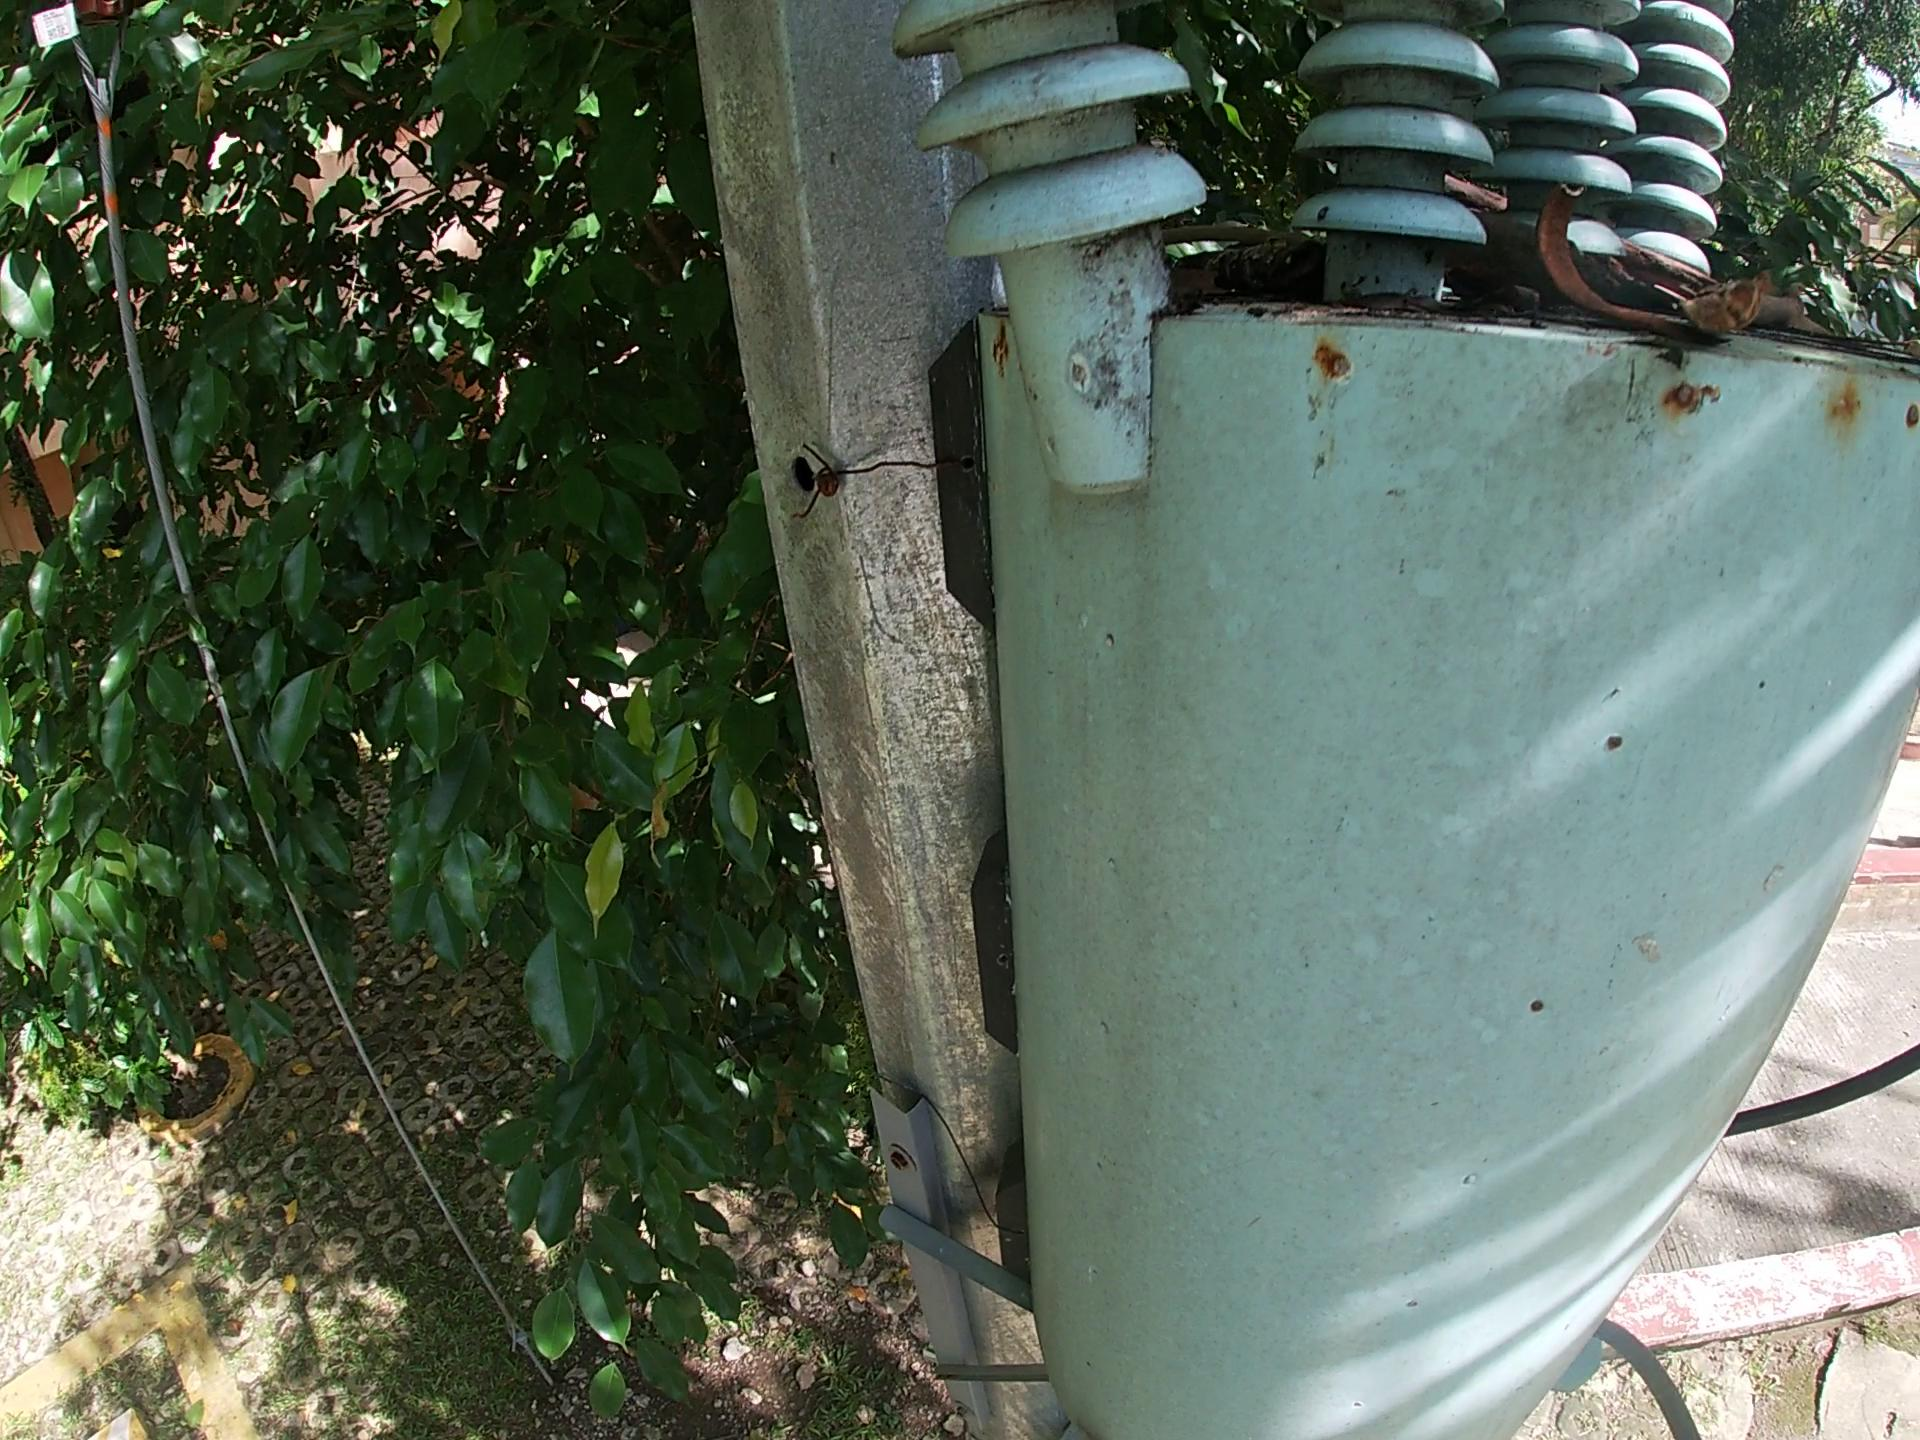mahogany fruit: (1531, 174, 1696, 330), (1445, 242, 1568, 296)
tree branch: (1163, 247, 1323, 309), (1668, 272, 1832, 330), (1610, 244, 1720, 292), (1430, 281, 1539, 318), (1442, 172, 1507, 213), (1160, 225, 1273, 248)
